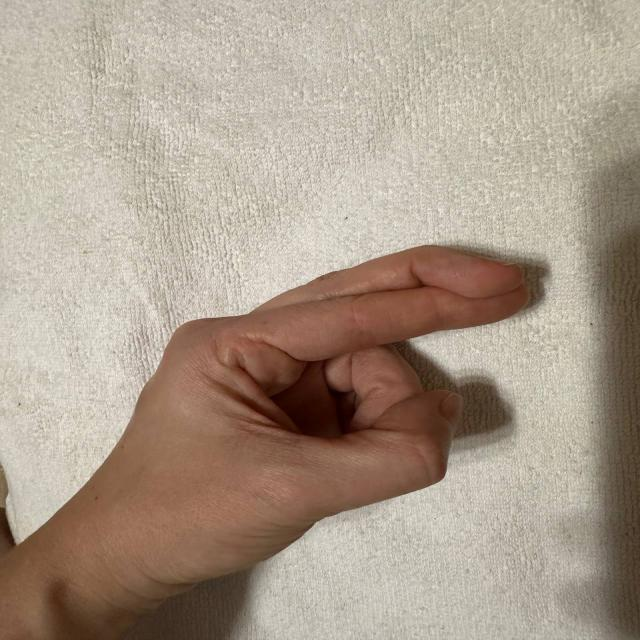ia: (127, 225, 636, 640)
